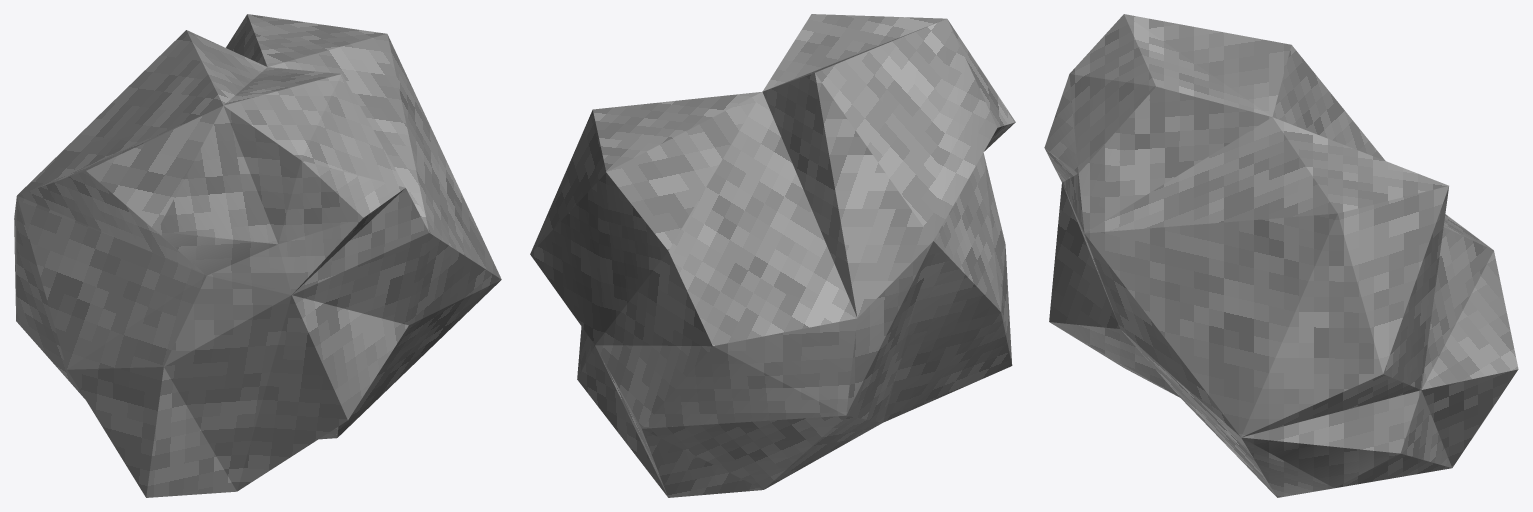
Rendered from Chunk.glb.
3 views of the same model, side by side, from view 1: azimuth 30°, elevation 25°; view 2: azimuth 150°, elevation 25°; view 3: azimuth 270°, elevation 25° (orthographic). The views are drawn at different scales.
Visible parts, largest first — view 1: GeoSphere002; view 2: GeoSphere002; view 3: GeoSphere002.
Boxes of the visible parts, box(x1,y1,x2,y2) form: GeoSphere002: box(14, 14, 501, 497); GeoSphere002: box(530, 14, 1015, 497); GeoSphere002: box(1044, 14, 1518, 497).
Bounding box in the file's own units: 0.6027 × 0.5839 × 0.6118.
1 material, 1 textured.
